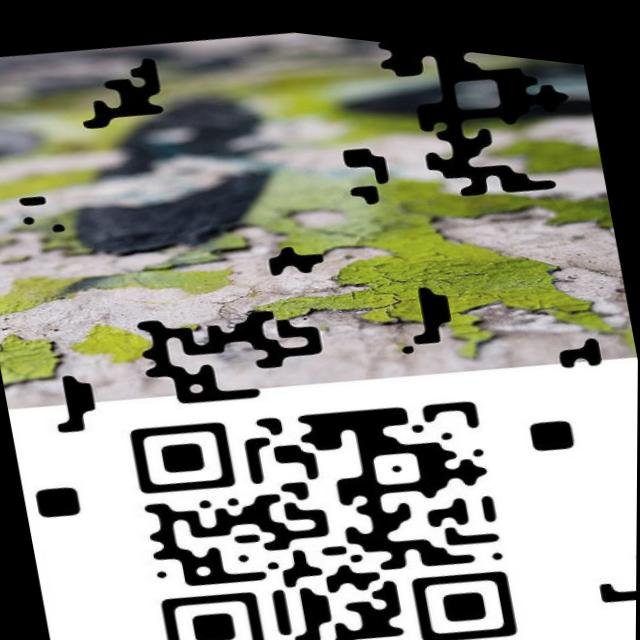qrcode: (128, 358, 521, 640)
